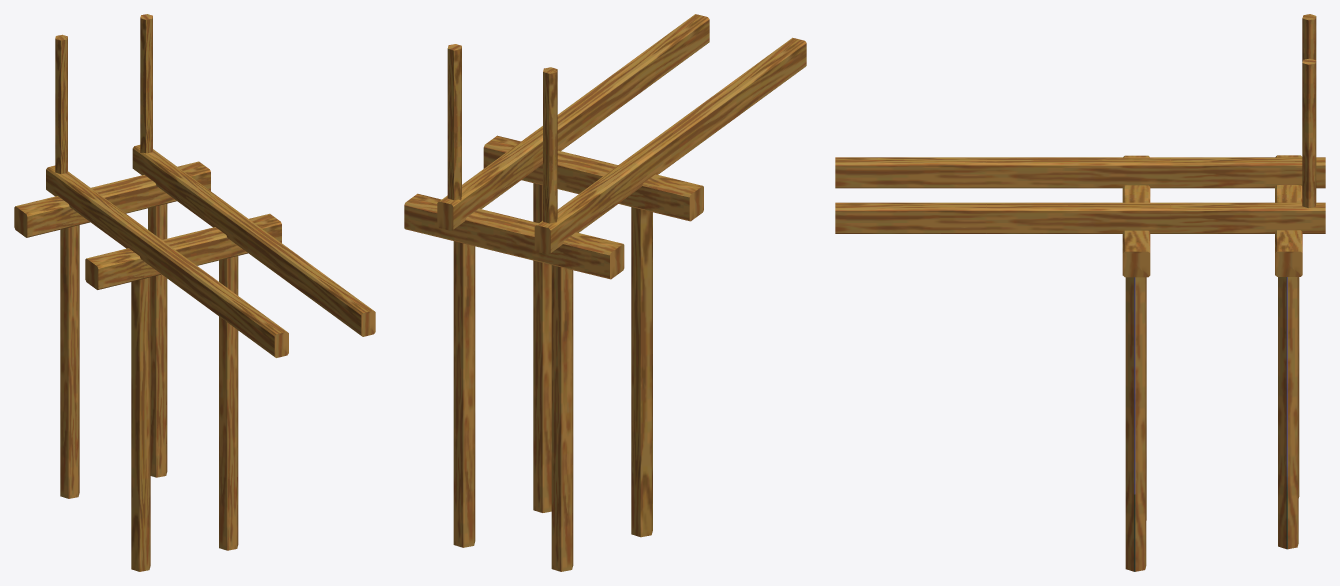
The model's file is biabridge_bake.dae.
3 renders of one model, left to right at view 1: azimuth 30°, elevation 25°; view 2: azimuth 150°, elevation 25°; view 3: azimuth 270°, elevation 25°, orthographic. The views are drawn at different scales.
Parts seen in each view (by area): view 1: m0; view 2: m0; view 3: m0, m0_VC.
Boxes of the visible parts, <box> form: m0: <box>14,14,375,571</box>; m0: <box>404,14,806,571</box>; m0: <box>835,14,1325,571</box>; m0_VC: <box>1134,277,1287,571</box>.
Bounding box in the file's own units: 1313 × 3217 × 2831.
Materials: 2 (2 with a texture image).
